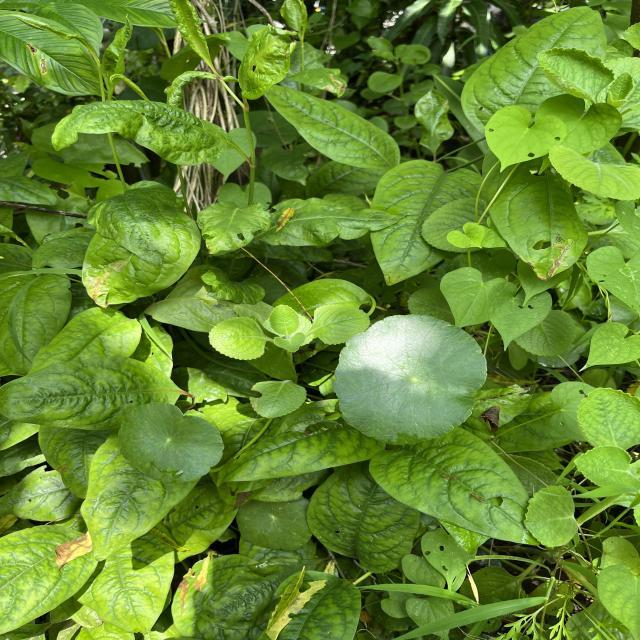Bacopa monnieri: (331, 313, 488, 447), (117, 401, 226, 484), (234, 493, 314, 551)
